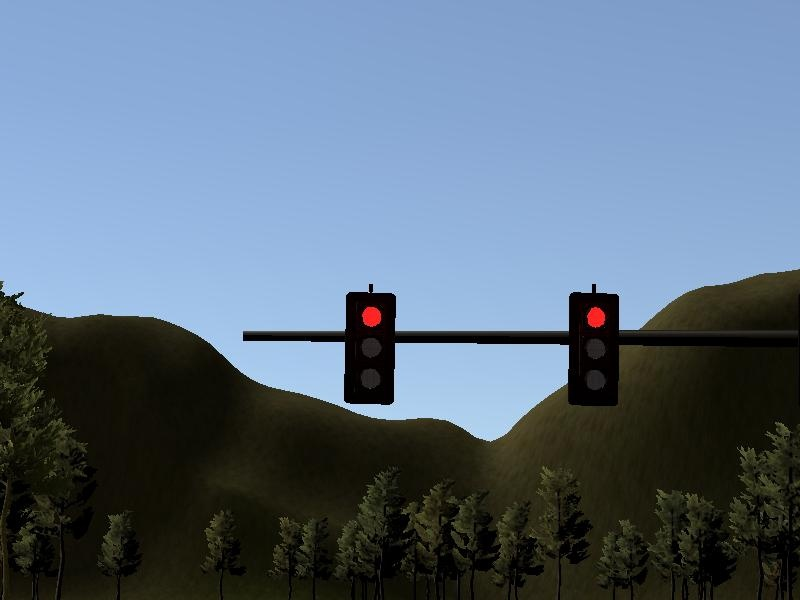red: (568, 291, 621, 410), (342, 291, 395, 406)
